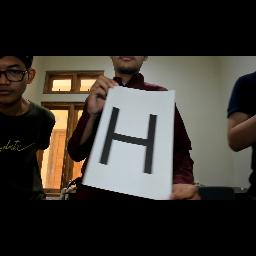h: (95, 103, 161, 181)
